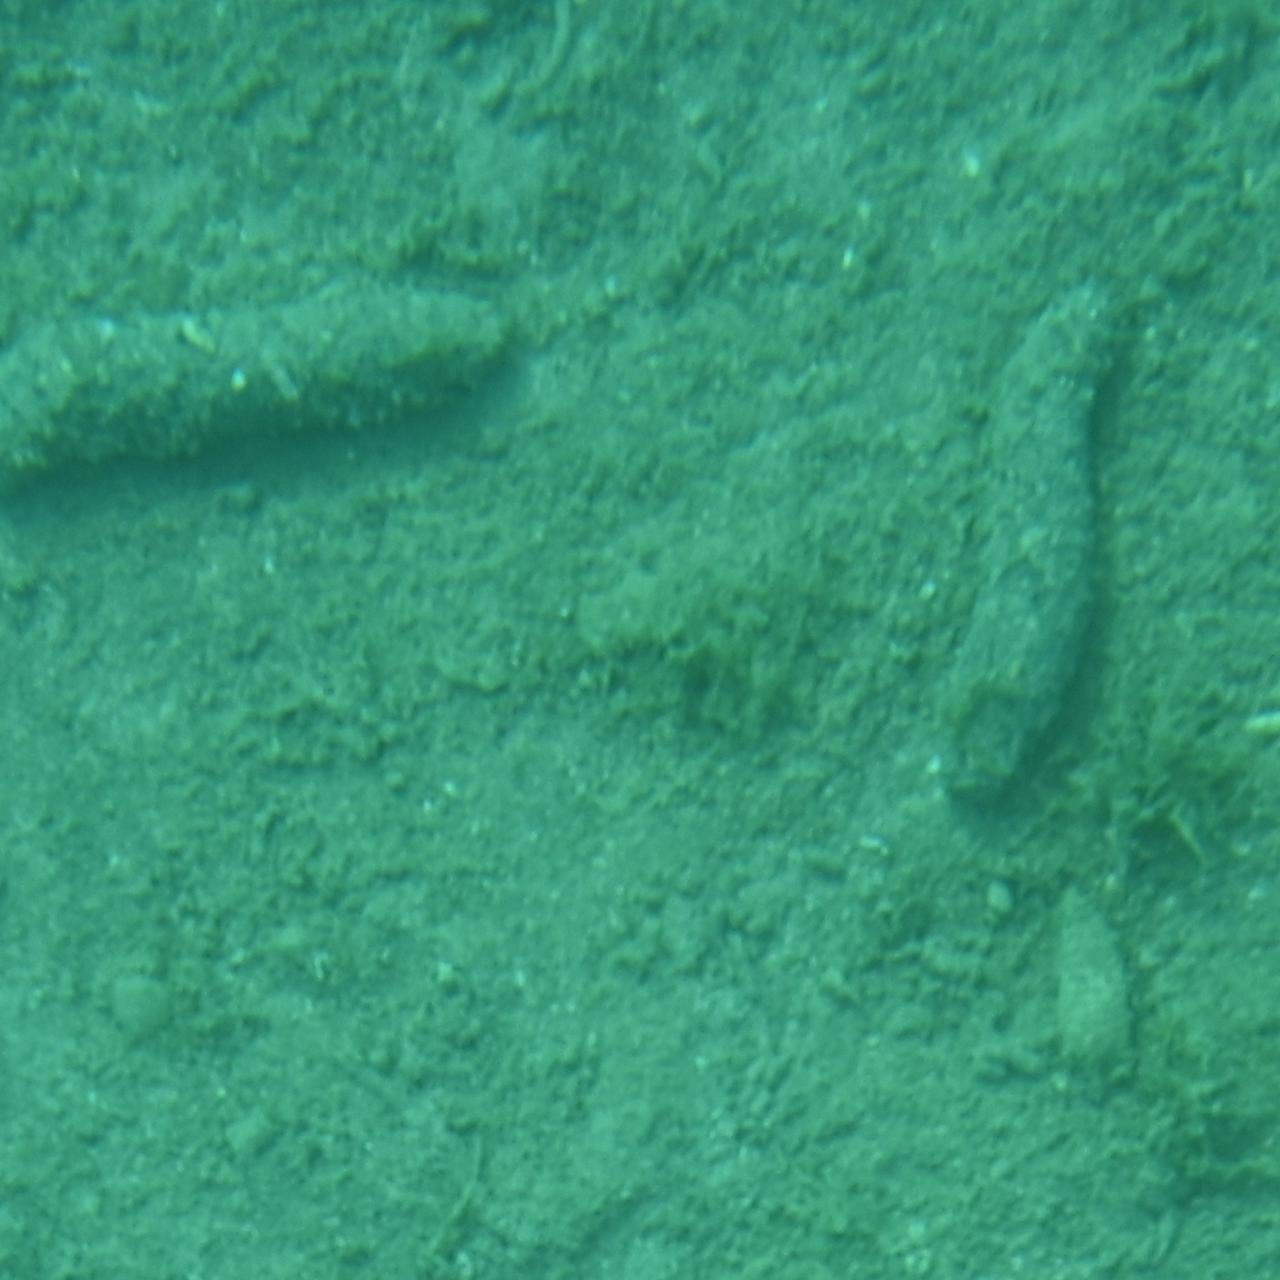Holothuria tubulosa: (0, 278, 522, 526), (940, 279, 1148, 838)
